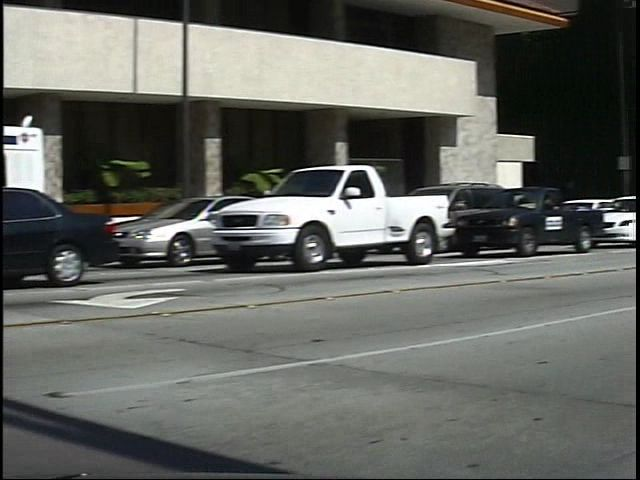car: (219, 164, 444, 265), (458, 181, 605, 257), (108, 190, 220, 270)
